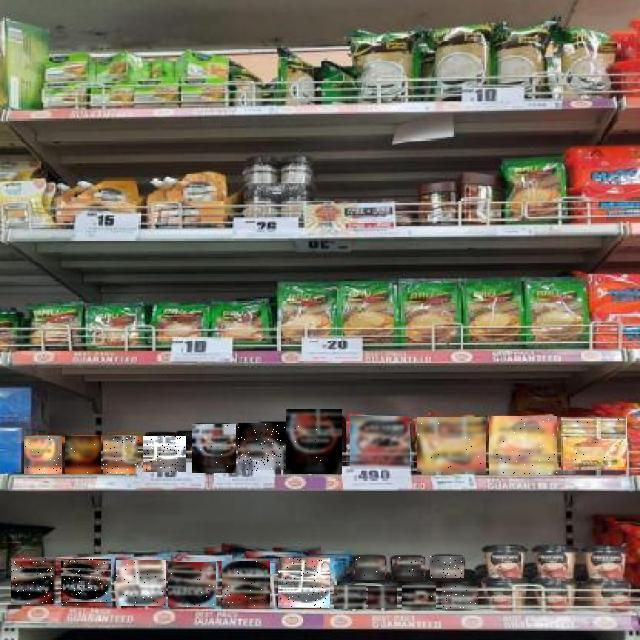Coffee: (489, 416, 557, 475), (417, 418, 486, 474), (561, 418, 627, 474), (286, 409, 342, 474), (350, 416, 410, 469), (279, 558, 331, 608), (239, 424, 287, 472), (61, 560, 111, 606), (116, 560, 166, 606), (222, 562, 270, 608), (169, 562, 217, 607), (192, 424, 236, 473), (12, 559, 58, 605), (143, 436, 186, 472), (24, 437, 62, 475), (104, 437, 140, 475), (65, 437, 101, 475), (442, 586, 478, 609), (402, 586, 436, 610), (334, 585, 366, 609), (430, 557, 464, 579), (392, 558, 425, 580), (355, 557, 385, 581), (368, 586, 397, 608)
